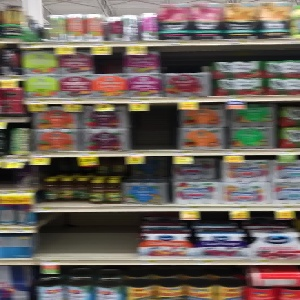void: (36, 209, 139, 263), (130, 102, 178, 154)
